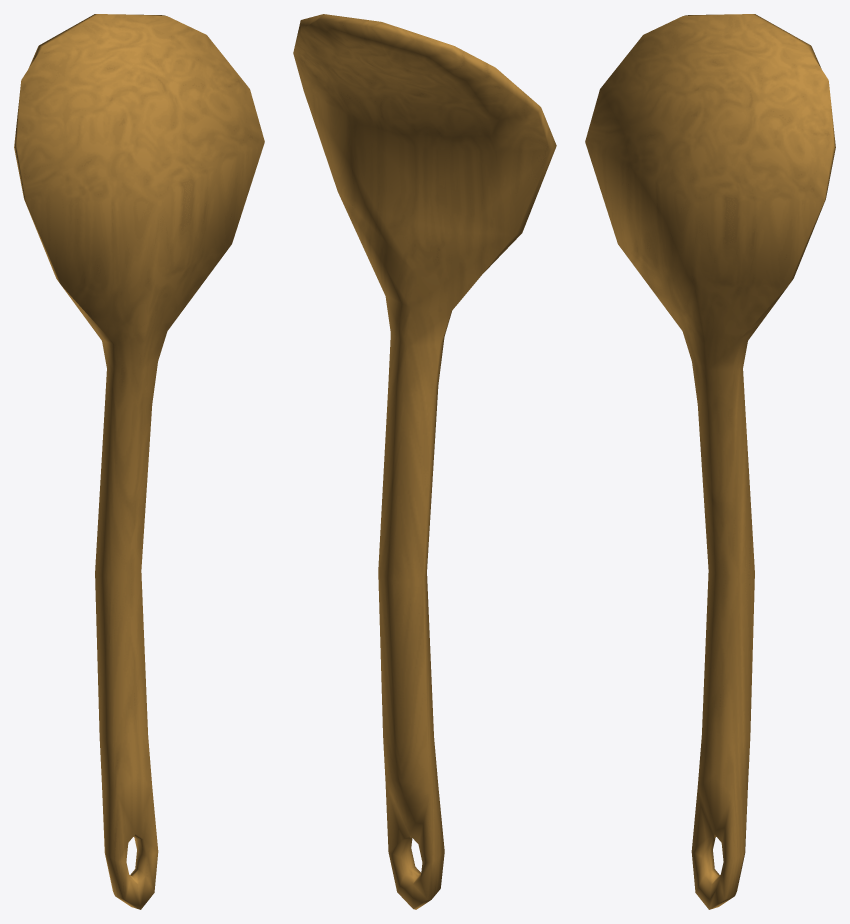
Rendered from ustensils7.glb.
The picture shows the model from 3 angles, left to right: view 1: azimuth 30°, elevation 25°; view 2: azimuth 150°, elevation 25°; view 3: azimuth 330°, elevation 25°; orthographic projection. The views are drawn at different scales.
Visible parts, largest first — view 1: ustensils7; view 2: ustensils7; view 3: ustensils7.
Part boxes in pixels (x1,y1,x2,y2): ustensils7: (14, 14, 264, 909); ustensils7: (293, 14, 556, 909); ustensils7: (585, 14, 835, 909).
Size of the model in its own units: 0.1654 by 0.5739 by 0.0746.
1 material, 1 textured.
